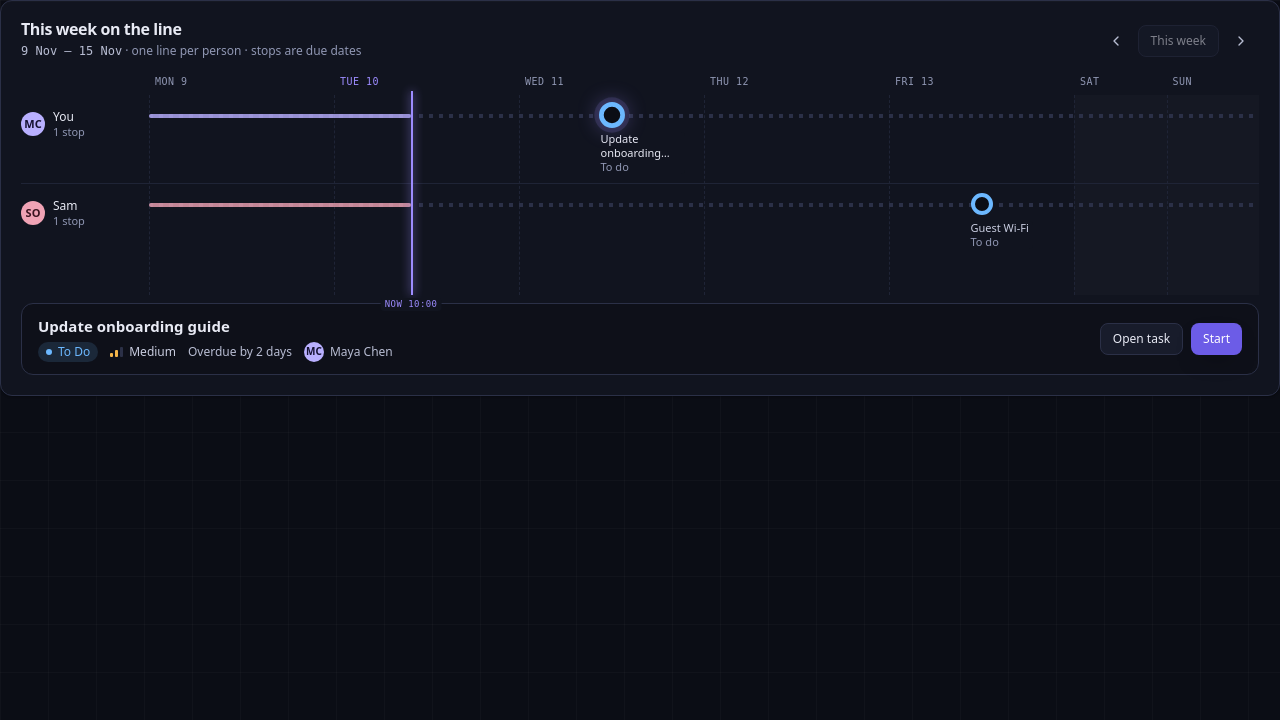
Test: WeekLineMap › puts the task back and explains why when the server refuses
Click the button "Update onboarding guide To do" at (642, 139), box x1=600 y1=104 x2=684 y2=174
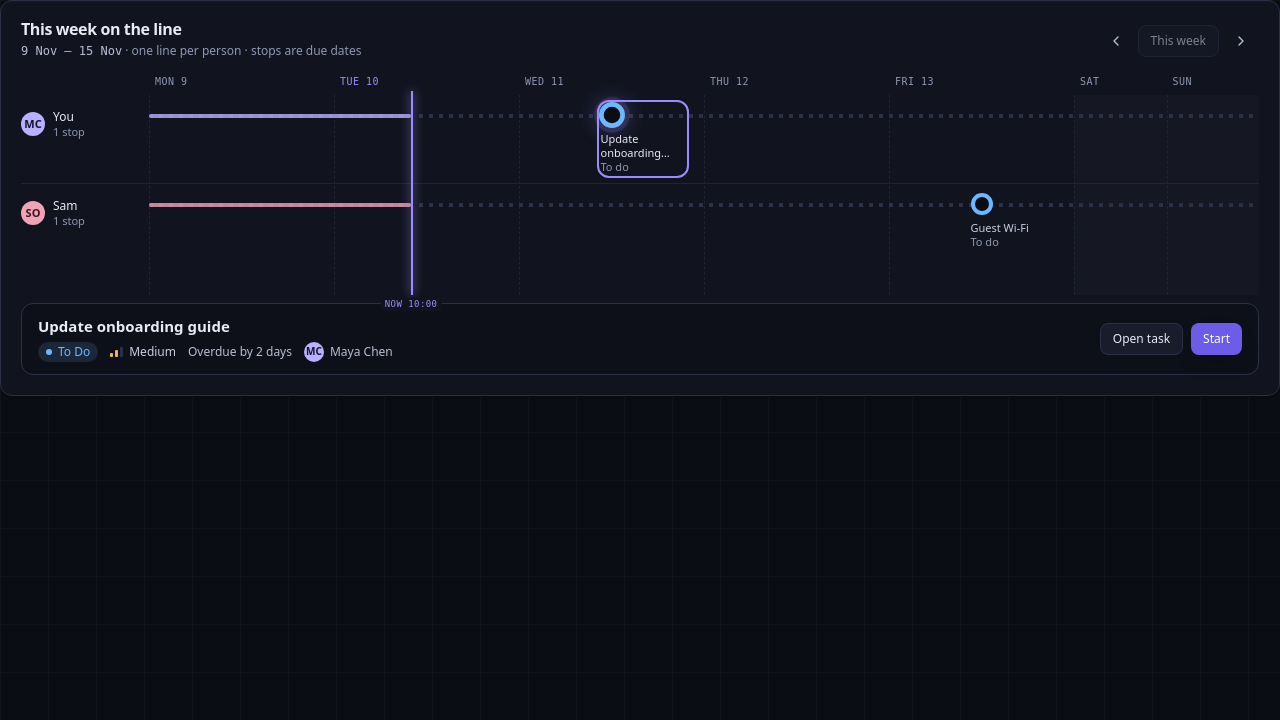
Click the button "Start" at (1216, 339), box x1=1191 y1=323 x2=1242 y2=355
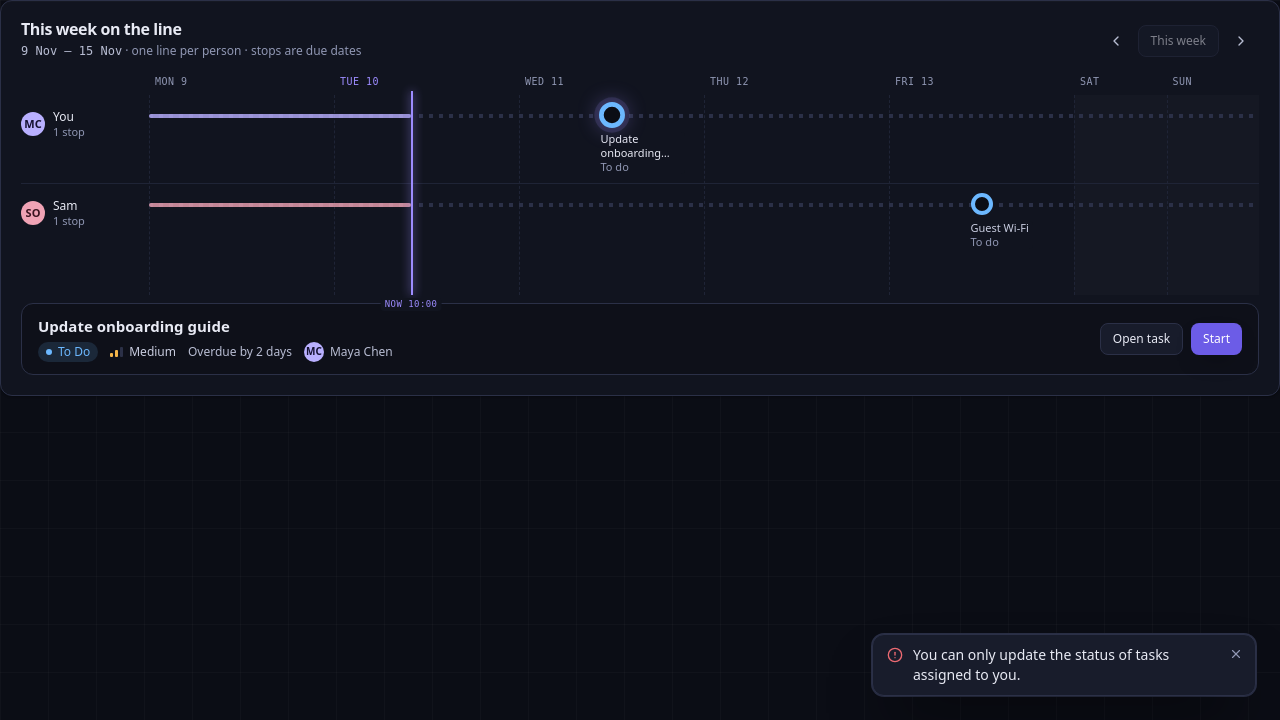
Expected: the button "Update onboarding guide To do" is shown, x1=600 y1=104 x2=684 y2=174
Now the text "You can only update the status of tasks assigned to you." is shown, box x1=913 y1=645 x2=1169 y2=684
